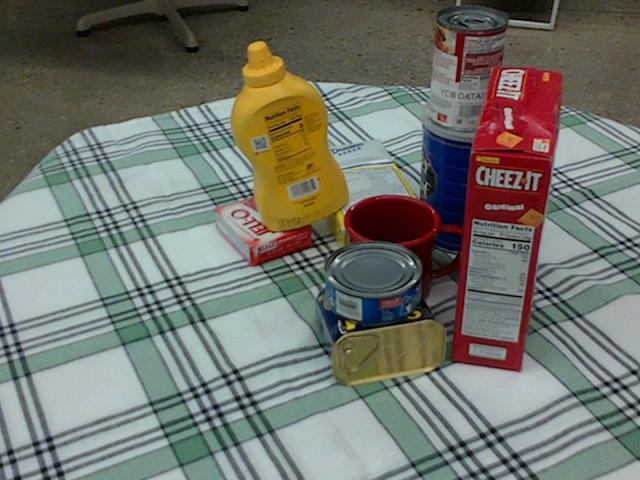cracker_box: (450, 67, 563, 370)
gelatin_box: (215, 193, 312, 267)
master_chef_can: (415, 91, 525, 254)
mug: (344, 195, 465, 311)
mustard_bottle: (230, 42, 347, 230)
potted_meat_can: (319, 268, 450, 382)
sugar_box: (303, 137, 425, 258)
tomato_soup_can: (429, 6, 507, 131)
tuna_fish_can: (324, 241, 422, 325)
